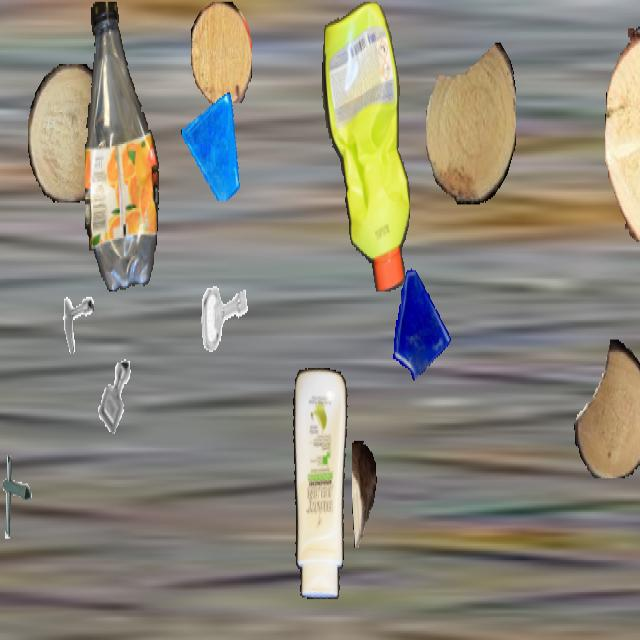glass: (387, 263, 453, 381), (181, 89, 243, 199)
metal: (193, 263, 253, 370), (87, 347, 143, 446), (0, 450, 40, 542), (52, 277, 94, 352)
plastic: (321, 2, 411, 290), (85, 2, 161, 290), (286, 368, 350, 599)
wood: (426, 41, 516, 204), (28, 64, 110, 203), (574, 340, 640, 478), (605, 25, 640, 249), (191, 2, 251, 105), (352, 441, 376, 547)
